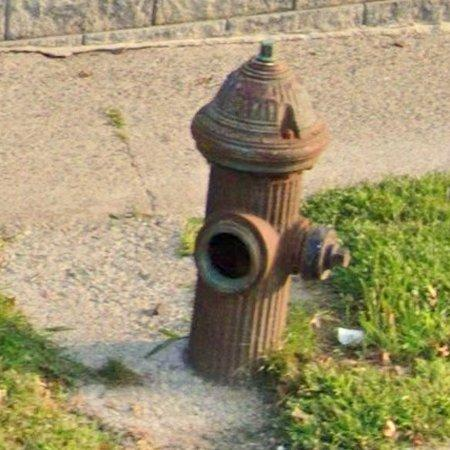a fire hydrant: (189, 42, 351, 382)
